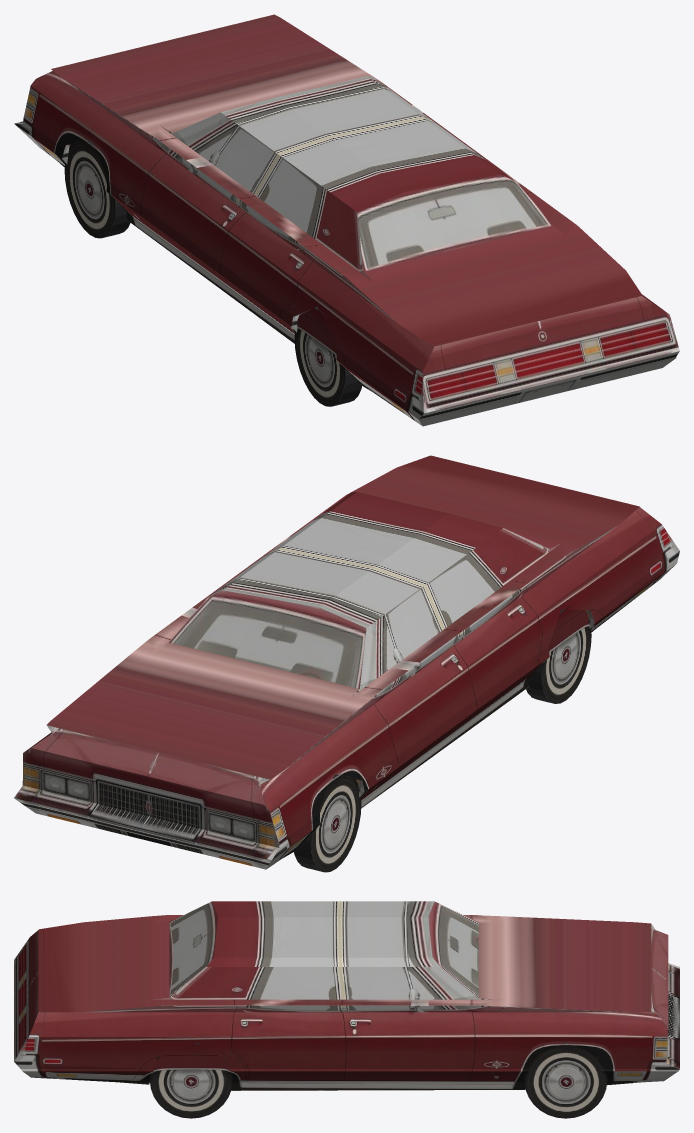
The model's file is luxury_sedan.glb.
3 views of the same model, one above another, from view 1: azimuth 30°, elevation 25°; view 2: azimuth 150°, elevation 25°; view 3: azimuth 270°, elevation 25° (orthographic). The views are drawn at different scales.
Parts seen in each view (by area): view 1: luxury_sedan, wheel_BL, wheel_FL; view 2: luxury_sedan, wheel_FL, wheel_BL; view 3: luxury_sedan, wheel_FR, wheel_BR.
Part boxes in pixels (left/top/right/bottom): luxury_sedan: left=14, top=14, right=679, bottom=426; wheel_BL: left=294, top=307, right=361, bottom=406; wheel_FL: left=64, top=139, right=130, bottom=238; luxury_sedan: left=14, top=455, right=679, bottom=869; wheel_FL: left=294, top=773, right=361, bottom=872; wheel_BL: left=526, top=605, right=591, bottom=703; luxury_sedan: left=14, top=901, right=679, bottom=1090; wheel_FR: left=524, top=1042, right=607, bottom=1118; wheel_BR: left=150, top=1043, right=232, bottom=1118.
Bounding box in the file's own units: 1.86 × 1.2 × 5.1.
3 materials, 1 textured.
